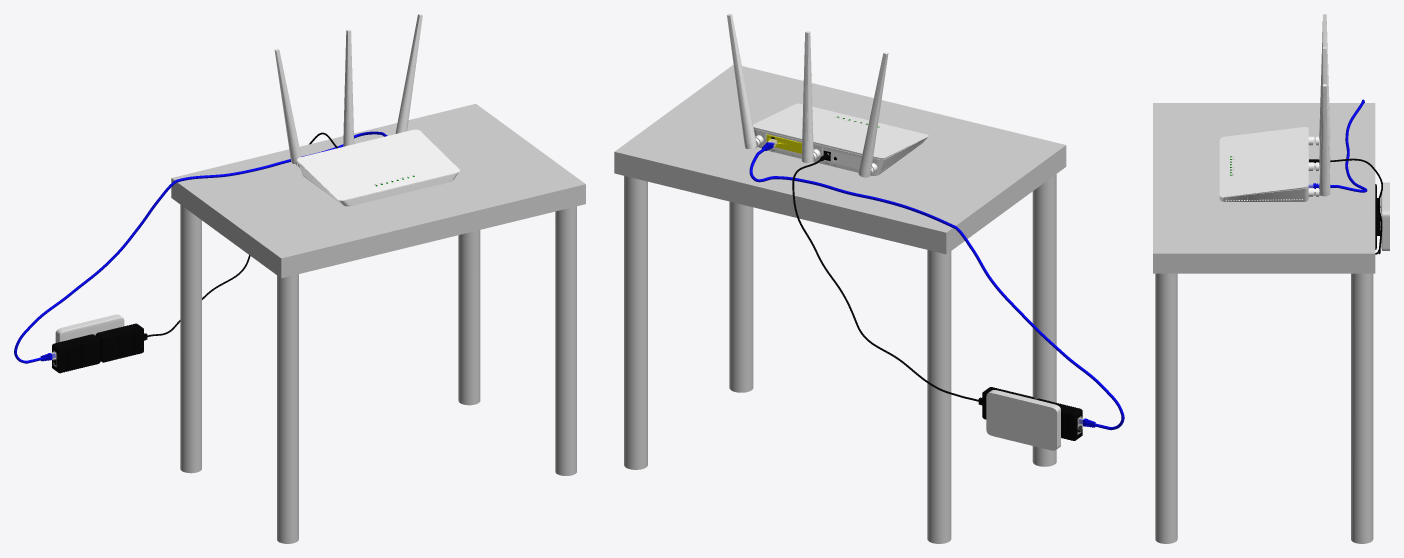
Rendered from Router Power Adaptor, Router, Power Outlet.fbx.
3 views of the same model, side by side, from view 1: azimuth 30°, elevation 25°; view 2: azimuth 150°, elevation 25°; view 3: azimuth 270°, elevation 25° (orthographic). The views are drawn at different scales.
Parts seen in each view (by area): view 1: Cube.002, Cylinder.003, Base 1, POE Adapter, BézierCurve, Cube.001, Antenna Right, Antenna Left, Antenna Middle, Base; view 2: Cube.002, Cylinder.003, Base 1, Base, BézierCurve, Antenna Right, Antenna Middle, Antenna Left, BézierCurve.001, POE Adapter; view 3: Cube.002, Cylinder.003, Base 1, Antenna Right, Antenna Middle, Base, Antenna Left, BézierCurve, BézierCurve.001.
Part boxes in pixels (x1,y1,x2,y2): Cube.002: (171, 104, 585, 278); Cylinder.003: (180, 205, 576, 543); Base 1: (297, 129, 459, 205); POE Adapter: (52, 334, 100, 373); BézierCurve: (14, 131, 383, 363); Cube.001: (95, 323, 147, 362); Antenna Right: (395, 14, 422, 133); Antenna Left: (274, 48, 301, 167); Antenna Middle: (343, 29, 354, 146); Base: (55, 314, 124, 342); Cube.002: (614, 65, 1066, 254); Cylinder.003: (624, 174, 1056, 543); Base 1: (753, 103, 928, 175); Base: (986, 390, 1060, 450); BézierCurve: (749, 152, 1124, 430); Antenna Right: (727, 14, 763, 148); Antenna Middle: (801, 31, 820, 163); Antenna Left: (858, 51, 888, 177); BézierCurve.001: (792, 159, 978, 401); POE Adapter: (1036, 398, 1082, 440); Cube.002: (1153, 103, 1375, 273); Cylinder.003: (1155, 273, 1373, 543); Base 1: (1219, 127, 1308, 201); Antenna Right: (1308, 84, 1330, 196); Antenna Middle: (1308, 47, 1330, 171); Base: (1381, 182, 1389, 250); Antenna Left: (1308, 14, 1330, 145); BézierCurve: (1336, 99, 1367, 192); BézierCurve.001: (1330, 158, 1382, 254).
Size of the model in its own units: 1221 by 1048 by 533.
